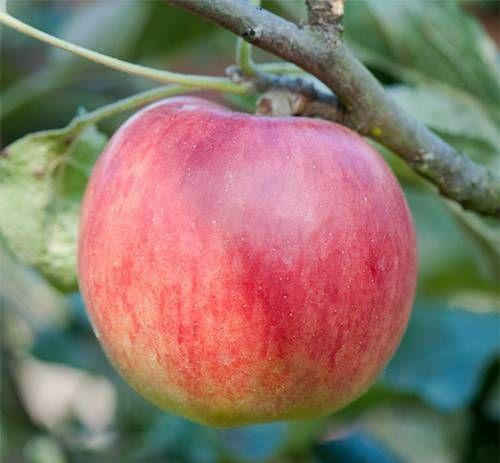Apple: (81, 98, 418, 427)
